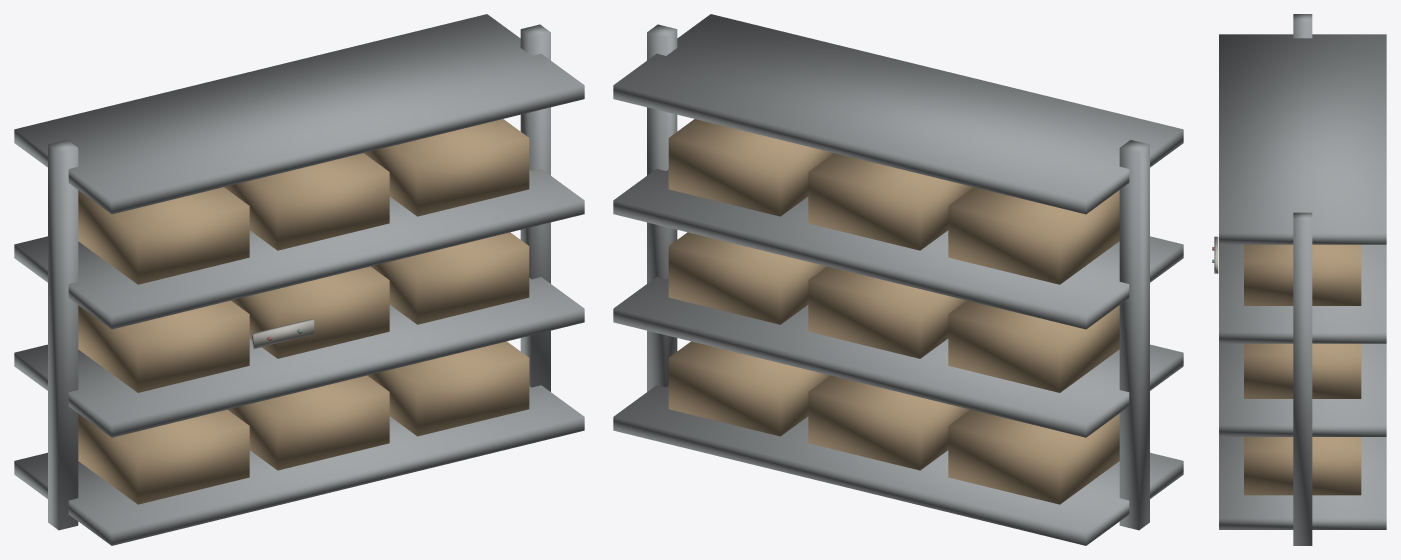
Rendered from warehouse_pallet_rack__squat.glb.
3 renders of one model, left to right at view 1: azimuth 30°, elevation 25°; view 2: azimuth 150°, elevation 25°; view 3: azimuth 270°, elevation 25°, orthographic. The views are drawn at different scales.
Visible parts, largest first — view 1: world; view 2: world; view 3: world.
Boxes of the visible parts, x1=… form: world: x1=14, y1=14, x2=584, y2=545; world: x1=613, y1=14, x2=1183, y2=545; world: x1=1212, y1=14, x2=1386, y2=545.
Bounding box in the file's own units: 2.52 × 1.85 × 0.8975.
